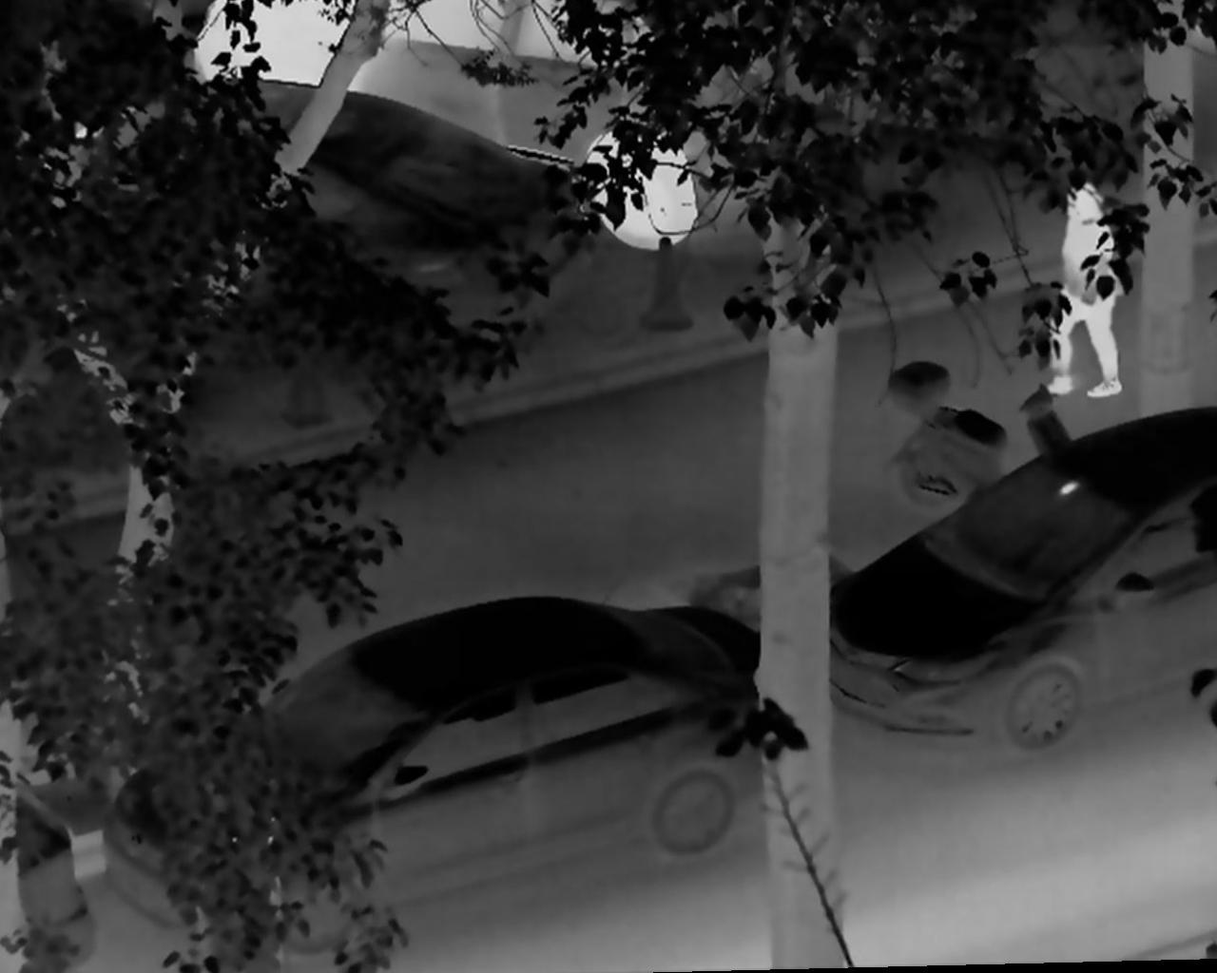person: (1037, 181, 1127, 401)
